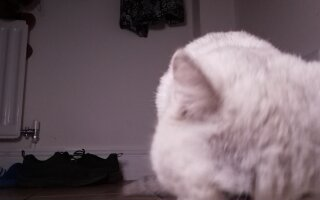bad: (150, 29, 318, 197)
